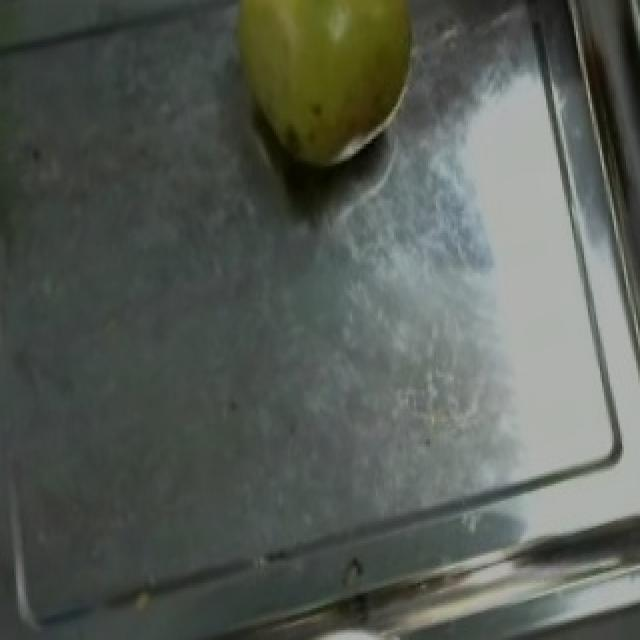fruit: (200, 0, 446, 193)
